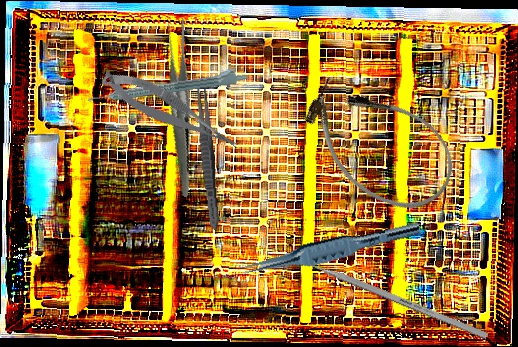Cannula: (285, 58, 473, 231)
Dressing Forceps: (125, 15, 232, 198), (192, 79, 223, 231)
Handpiece: (86, 64, 249, 106)
Micro Scissor: (97, 56, 243, 168)
Pusher: (282, 250, 489, 340)
Tissue Forceps: (240, 211, 422, 286)
